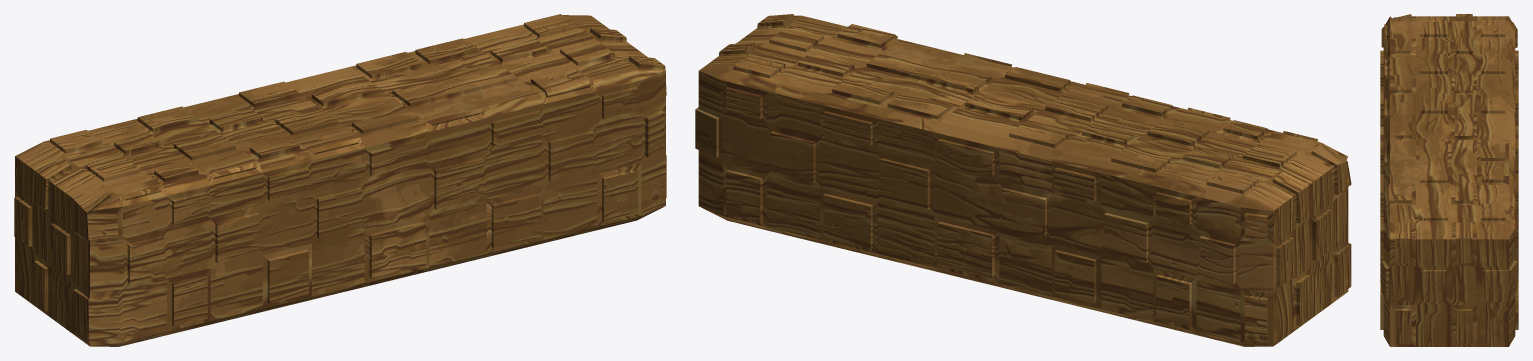
File: tile zollapietra.fbx
3 views of the same model, side by side, from view 1: azimuth 30°, elevation 25°; view 2: azimuth 150°, elevation 25°; view 3: azimuth 270°, elevation 25° (orthographic). The views are drawn at different scales.
Visible parts, largest first — view 1: pCube13; view 2: pCube13; view 3: pCube13.
Part boxes in pixels (x1,y1,x2,y2): pCube13: (14, 14, 666, 346); pCube13: (695, 14, 1351, 346); pCube13: (1380, 14, 1518, 346).
Bounding box in the file's own units: 2025 × 512 × 525.
